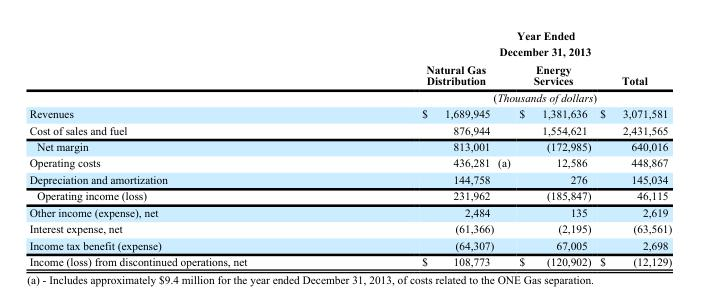table: (28, 28, 671, 267)
table column: (28, 28, 333, 267), (333, 28, 514, 267), (514, 28, 594, 267), (594, 28, 671, 267)
table column header: (28, 28, 671, 105)
table row: (28, 28, 671, 60), (28, 60, 671, 88), (28, 88, 671, 105), (28, 121, 671, 138), (28, 170, 671, 187), (28, 203, 671, 220), (28, 105, 671, 121), (28, 138, 671, 154), (28, 154, 671, 170), (28, 187, 671, 203), (28, 220, 671, 236), (28, 236, 671, 252), (28, 252, 671, 267)
table spanning cell: (333, 28, 671, 60), (333, 88, 671, 105)
